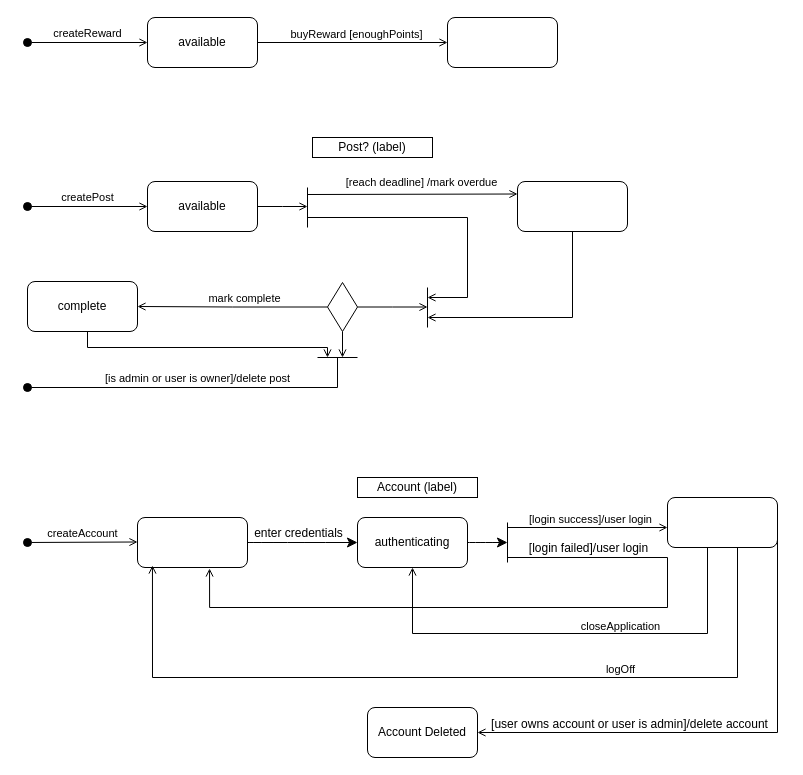
Some shapes in this 803 by 775 pixel diagram are drawn without their labels. The box of each missing label's shape, as (x1, y1, x2, y2) in pixels:
logged in: (666, 496, 778, 548)
logged out: (136, 516, 248, 568)
overdue: (516, 180, 628, 232)
purchased: (446, 16, 558, 68)
